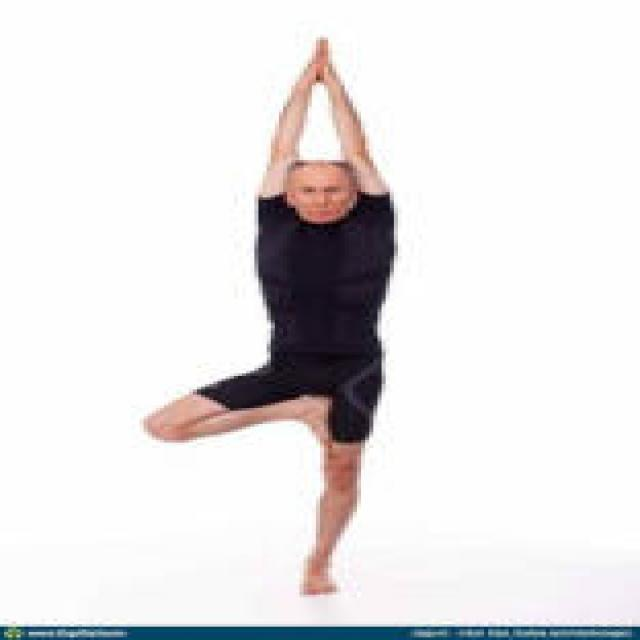yoga-pose tree: (148, 31, 401, 603)
